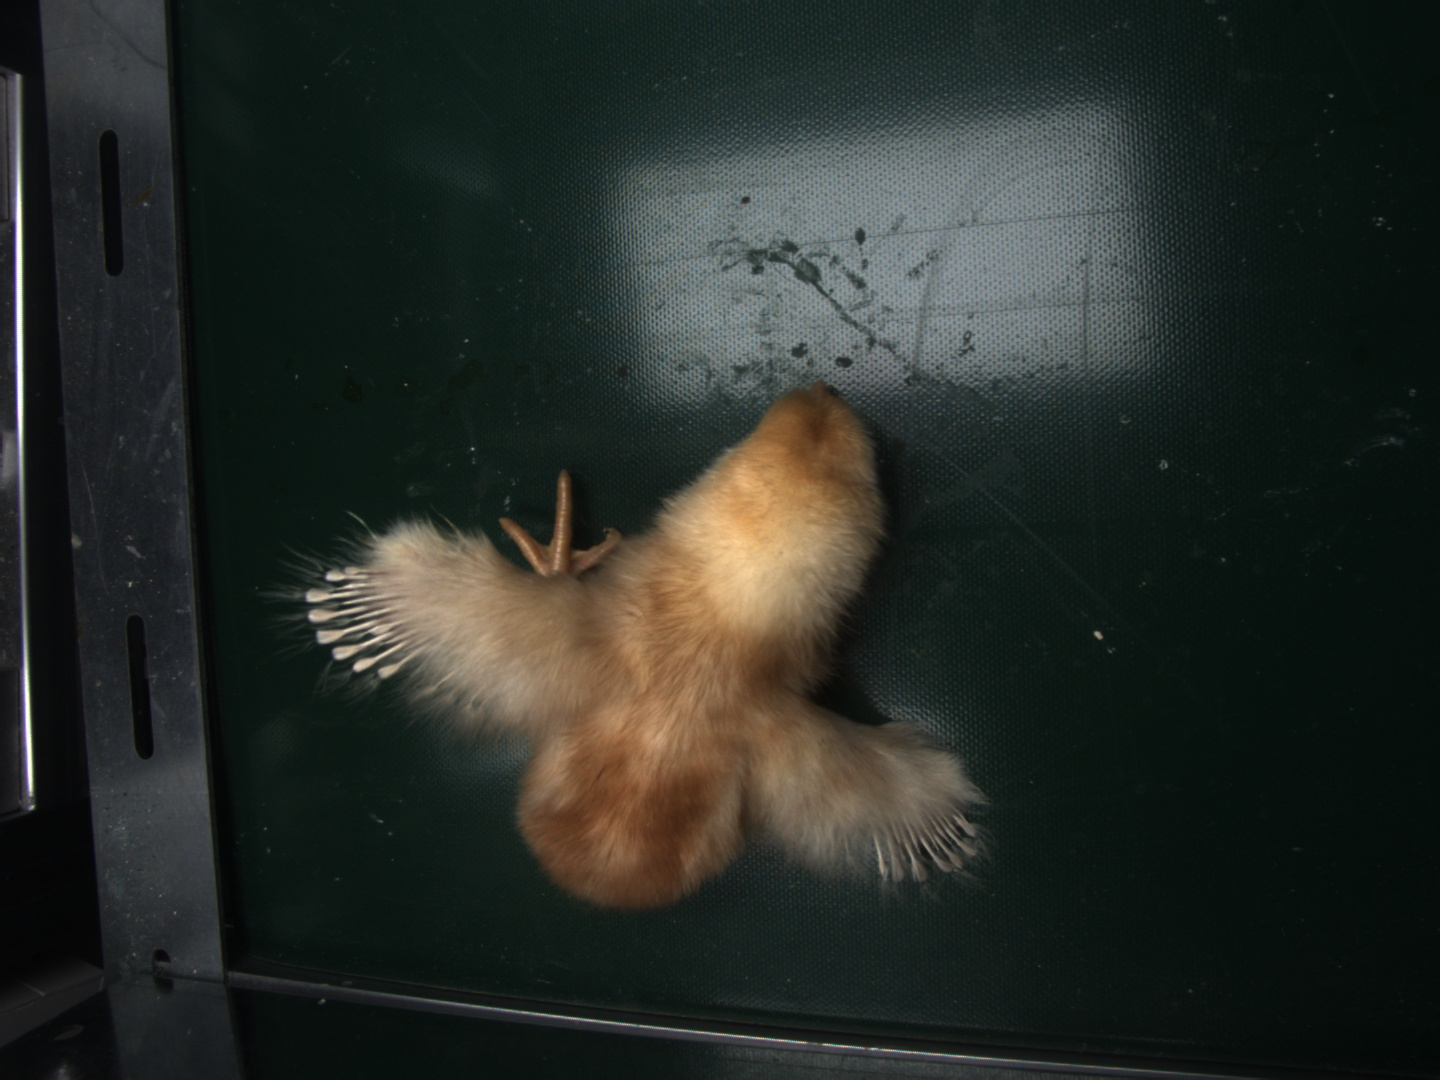female: (307, 565, 416, 681), (873, 802, 982, 879)
